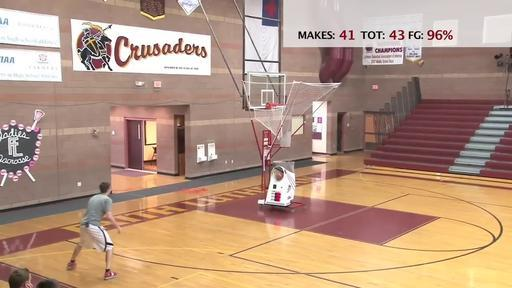human: (68, 183, 122, 281)
rim: (270, 104, 288, 122)
